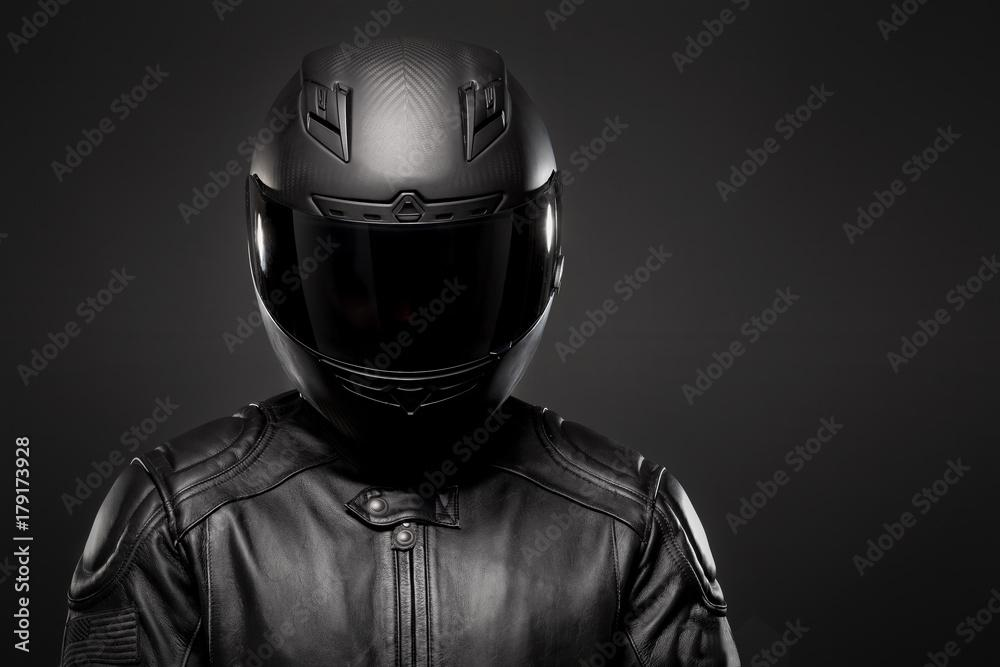helmet: (243, 31, 567, 467)
